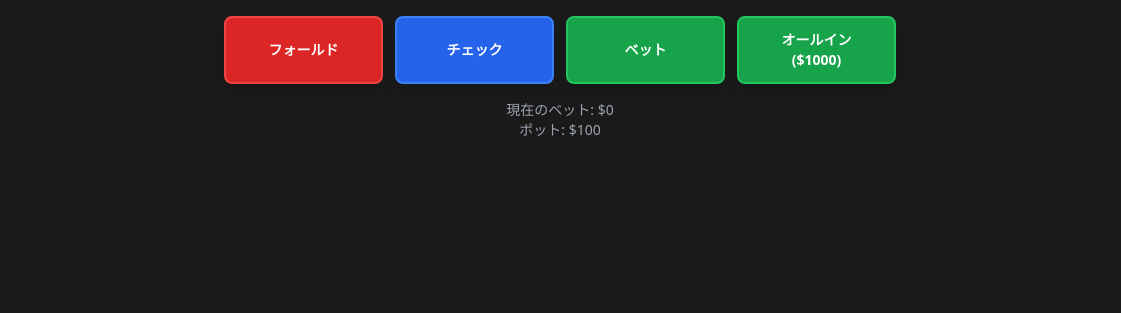
Test: ActionButtons › ベット入力画面でスライダーを操作できる
Click the button with test id "bet-btn".
click(646, 50)  # box [566,16,725,84]
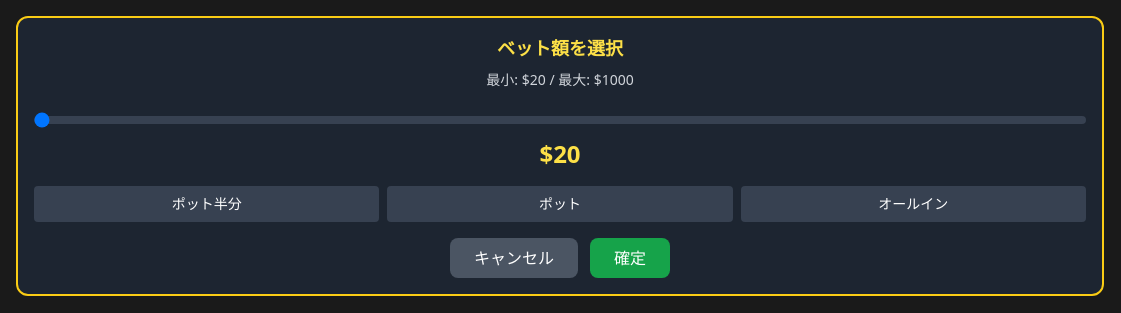
Set the 2nd slider with test id "bet-slider" to "100" at (127, 120), box [34,116,1086,124]
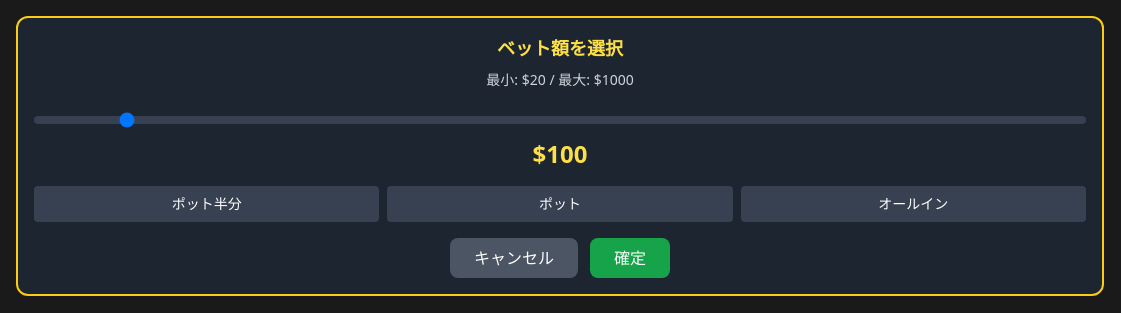
expect the text "$100" is shown: met, box [532,137,587,170]
